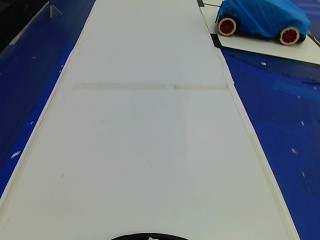car: (211, 0, 318, 47)
